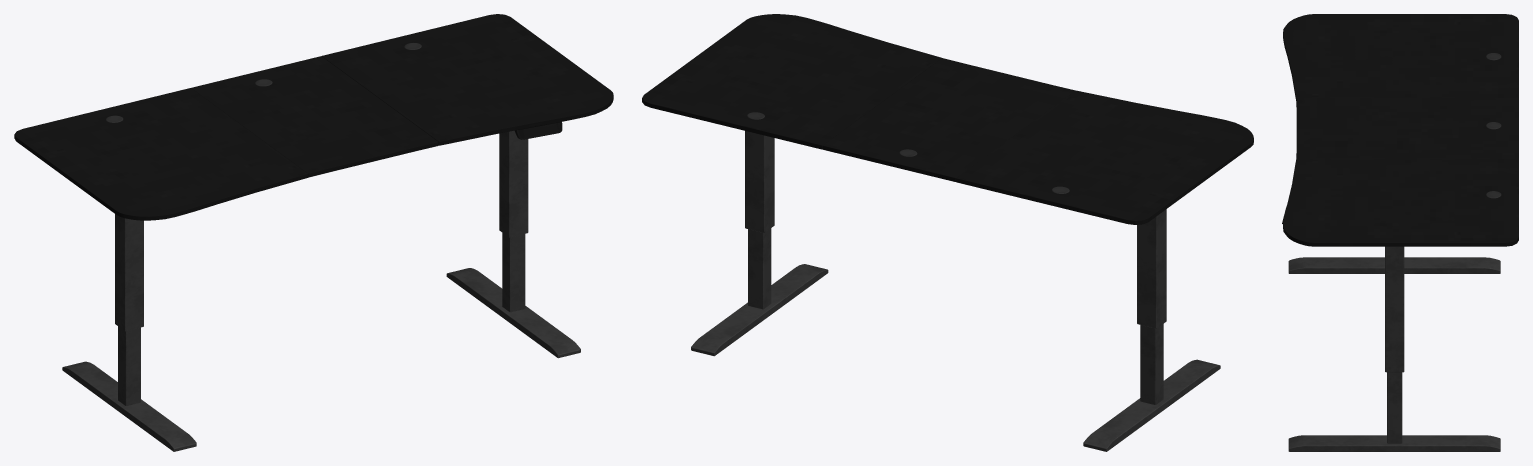
The model's file is desk-flexispot-e7.glb.
3 renders of one model, left to right at view 1: azimuth 30°, elevation 25°; view 2: azimuth 150°, elevation 25°; view 3: azimuth 270°, elevation 25°, orthographic. The views are drawn at different scales.
Parts seen in each view (by area): view 1: body; view 2: body; view 3: body.
Part boxes in pixels (x1,y1,x2,y2): body: [14, 14, 613, 451]; body: [642, 14, 1253, 451]; body: [1282, 14, 1518, 451].
Size of the model in its own units: 1.6 by 0.75 by 0.7.
2 materials, 2 textured.
